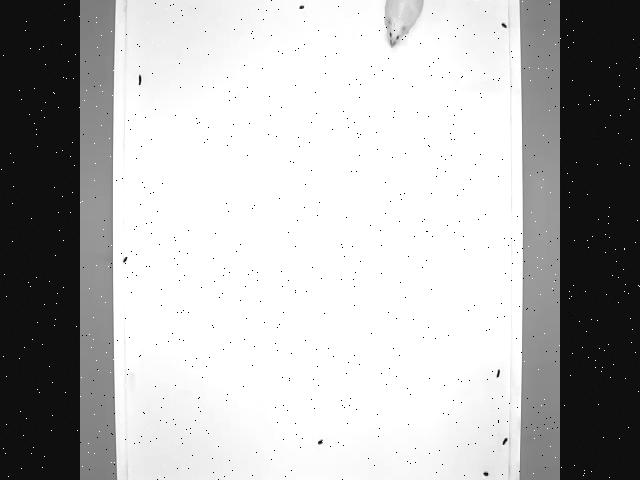Tikus: (385, 0, 478, 46)
